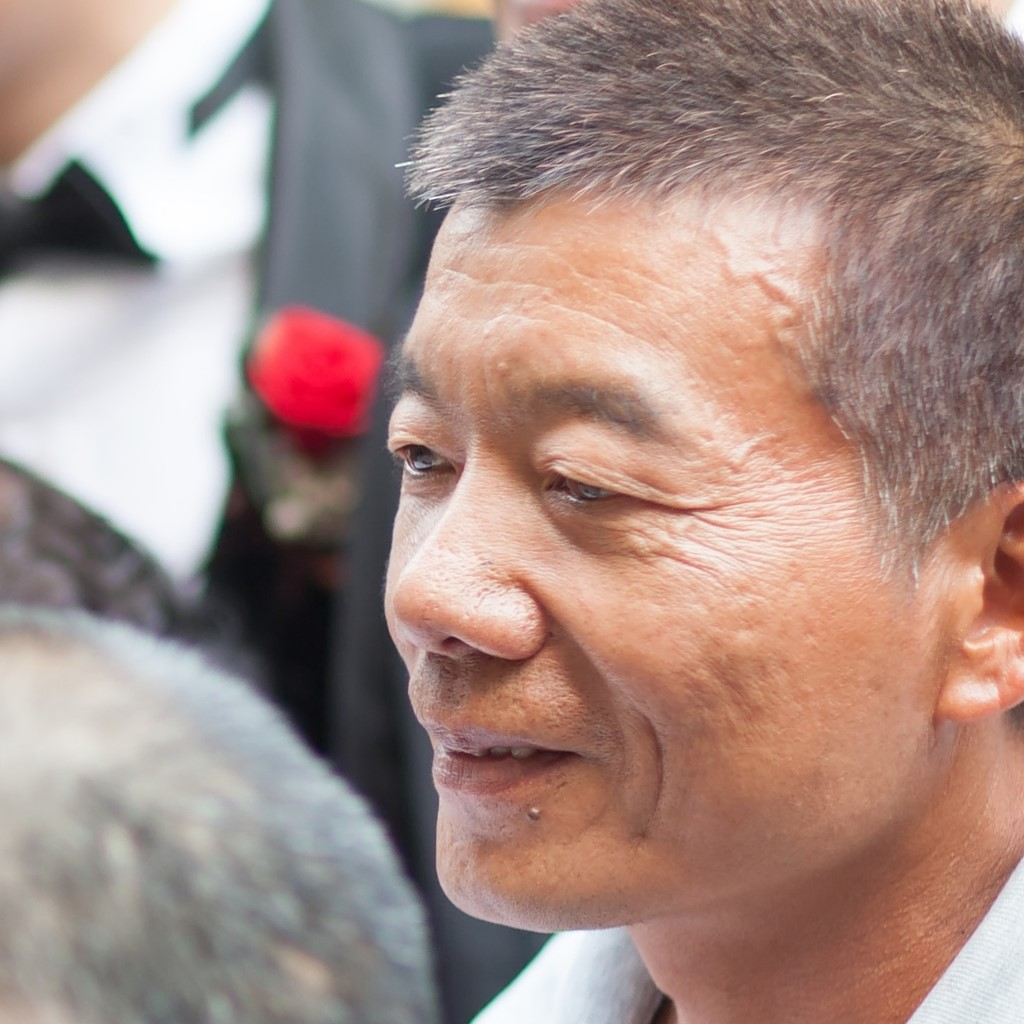sin_mascara: (388, 160, 976, 948)
